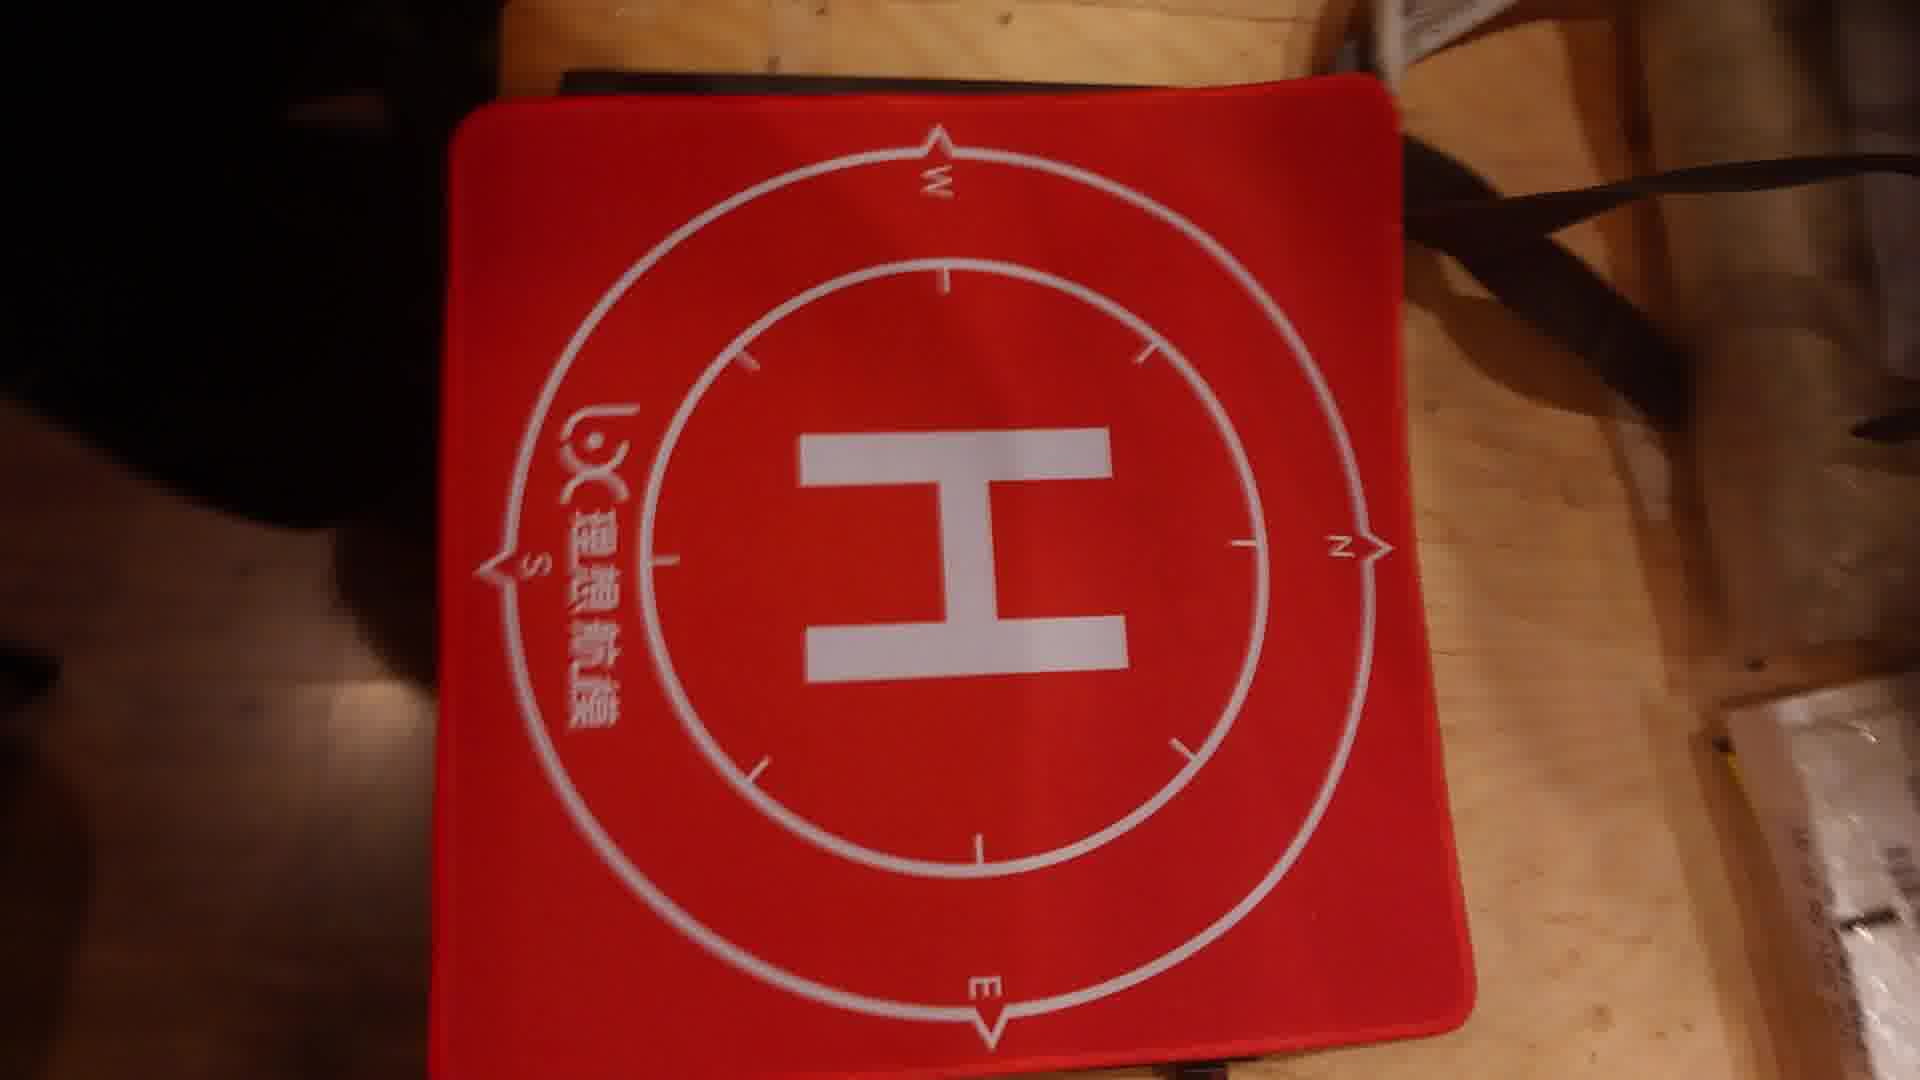H: (795, 429, 1133, 688)
